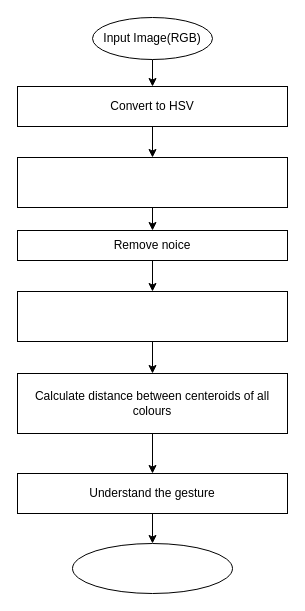
Image size: 305x611. Some labels were removed from this diagram. The shapes that lost their labels are listed below. From the top down, each one's centre as x and y in pixels, then its label:
At [152,182]: "Convert to binary with specific threshould for each color".
At [152,316]: "Find centeroid of the Detected colour".
At [152,568]: "Perform the specific task".
